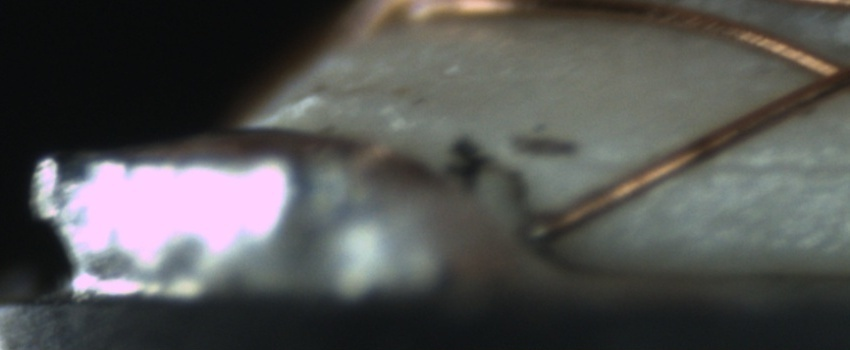CL: (776, 33, 849, 110)
DL: (681, 135, 850, 198)
